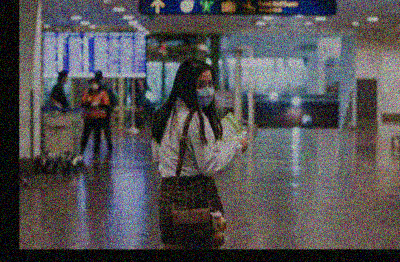with_mask: (194, 76, 215, 107), (89, 80, 100, 91)
